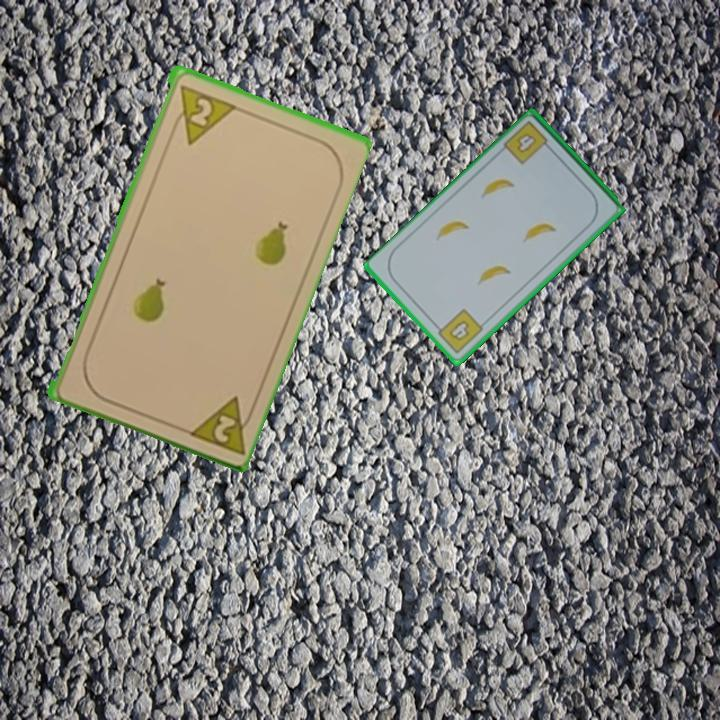2p: (182, 391, 259, 457), (167, 81, 236, 147)
4b: (431, 305, 486, 357), (500, 117, 556, 168)
